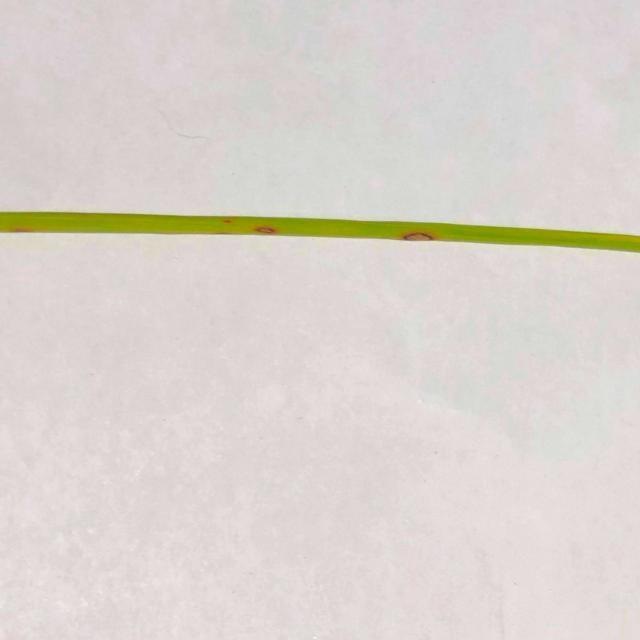Blast: (398, 228, 435, 242), (254, 224, 287, 238)
